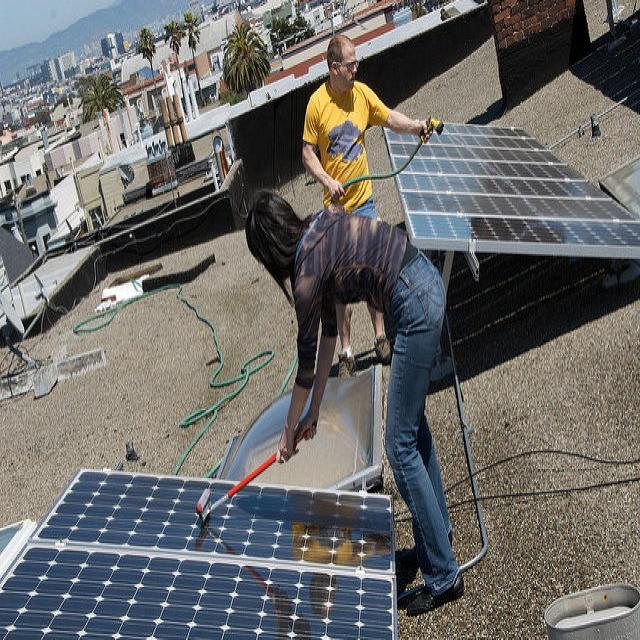Clean: (0, 467, 395, 639), (390, 127, 640, 251)
